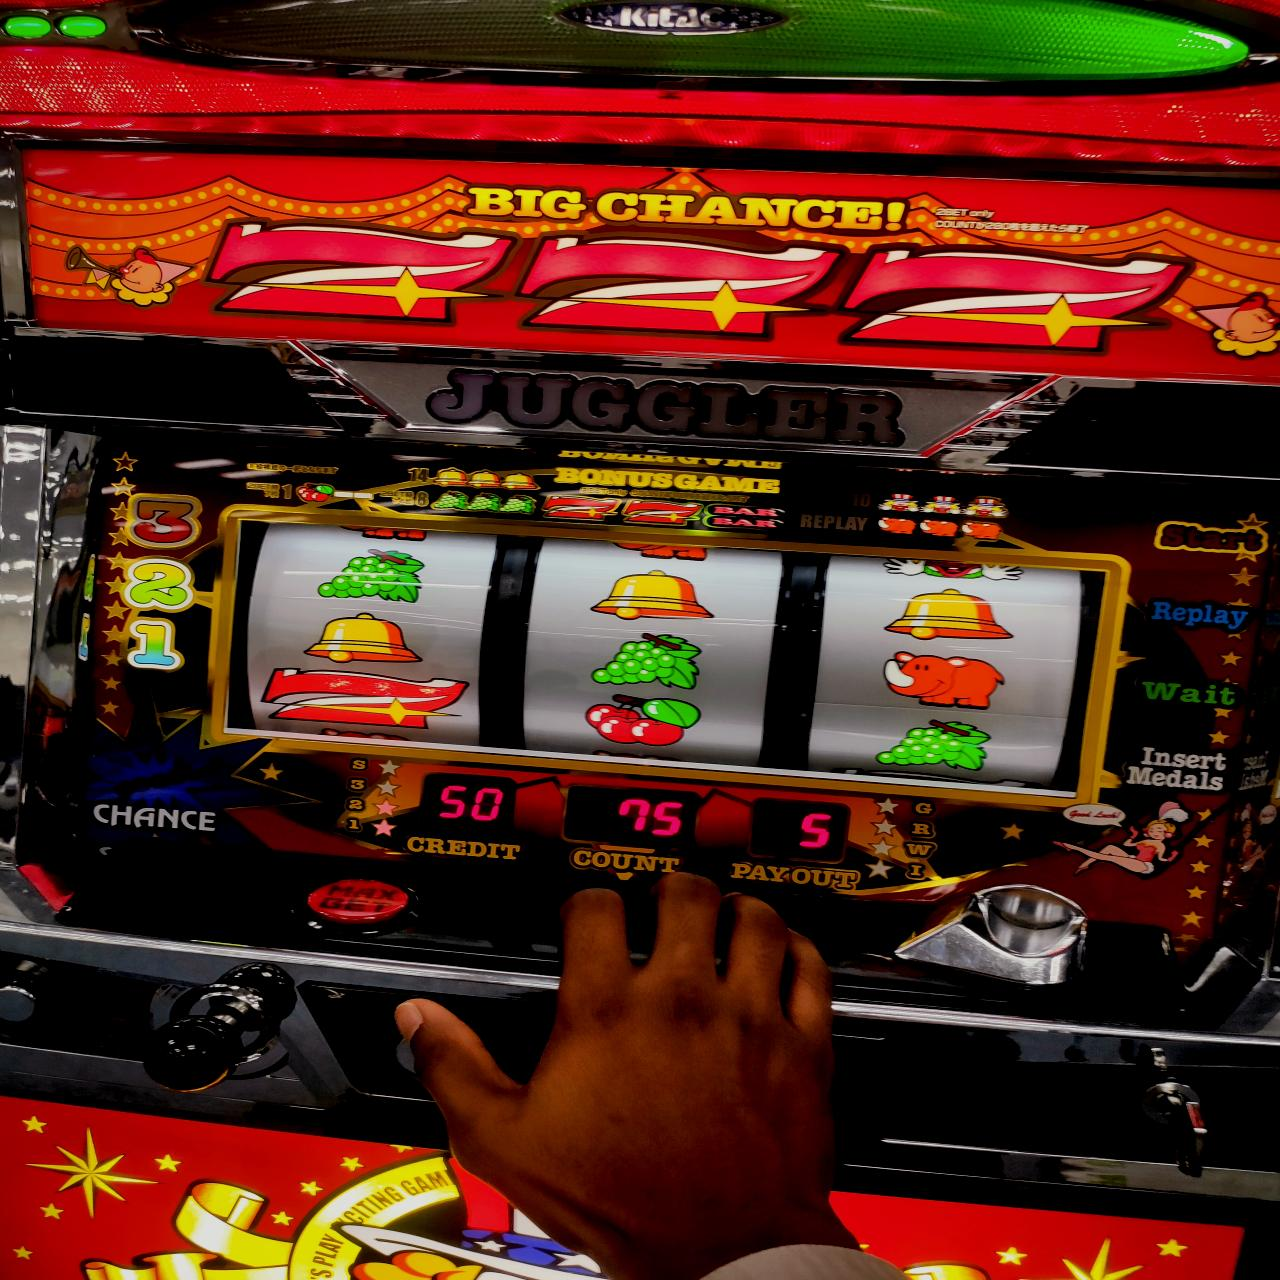7: (260, 666, 463, 728)
8: (880, 647, 1009, 713)
Display: (238, 512, 1091, 797)
bell: (590, 566, 715, 621), (305, 611, 423, 667), (886, 587, 1013, 639)
cherry: (586, 693, 703, 745)
grape: (591, 629, 703, 692), (315, 549, 427, 602), (879, 720, 993, 771)
